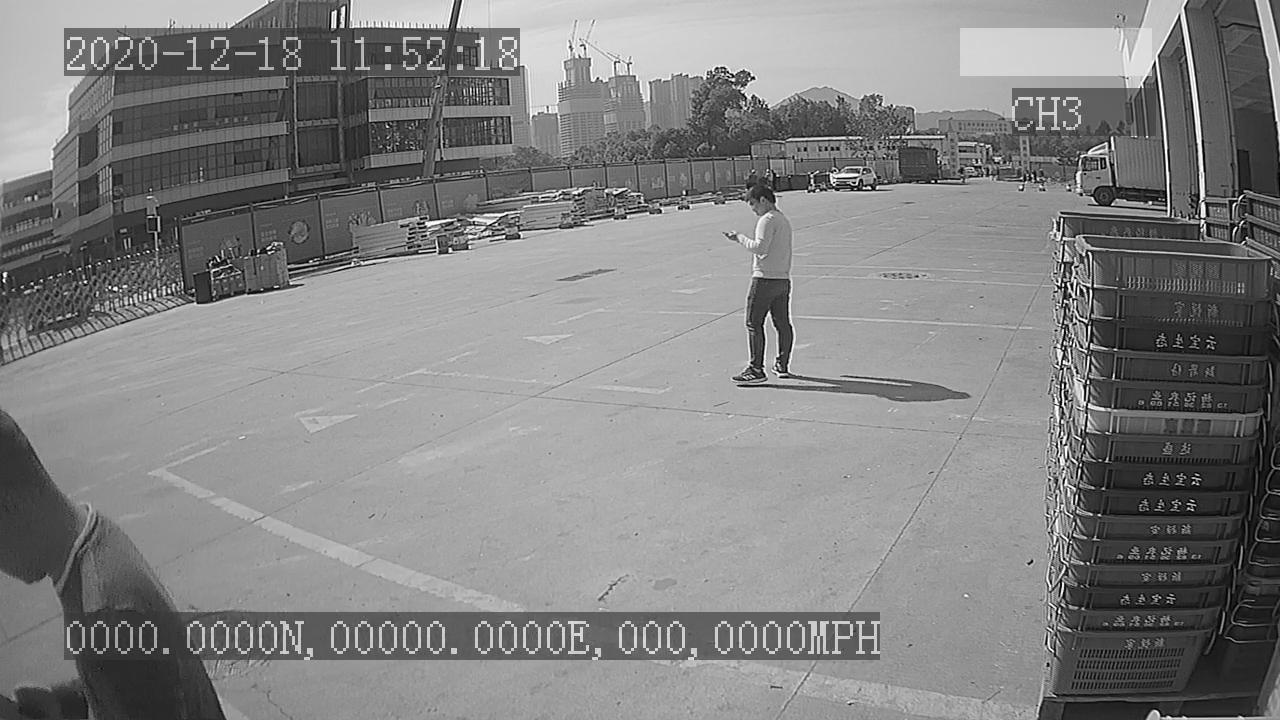person: (718, 183, 797, 392)
